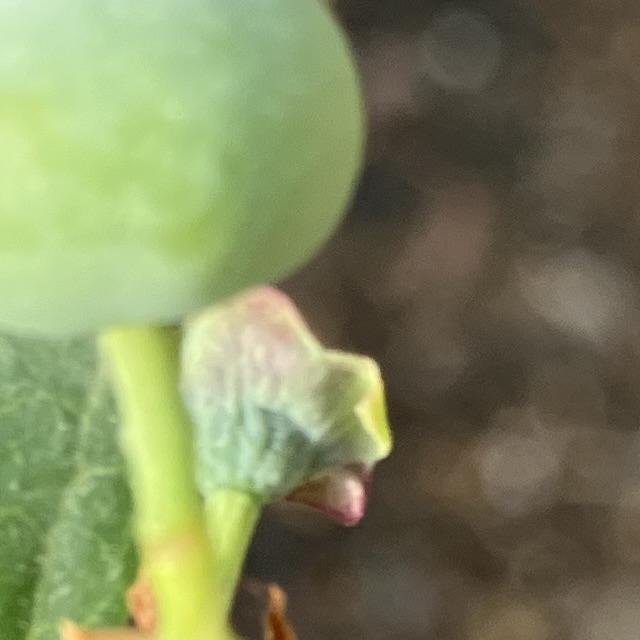Blueberries: (0, 0, 367, 340)
